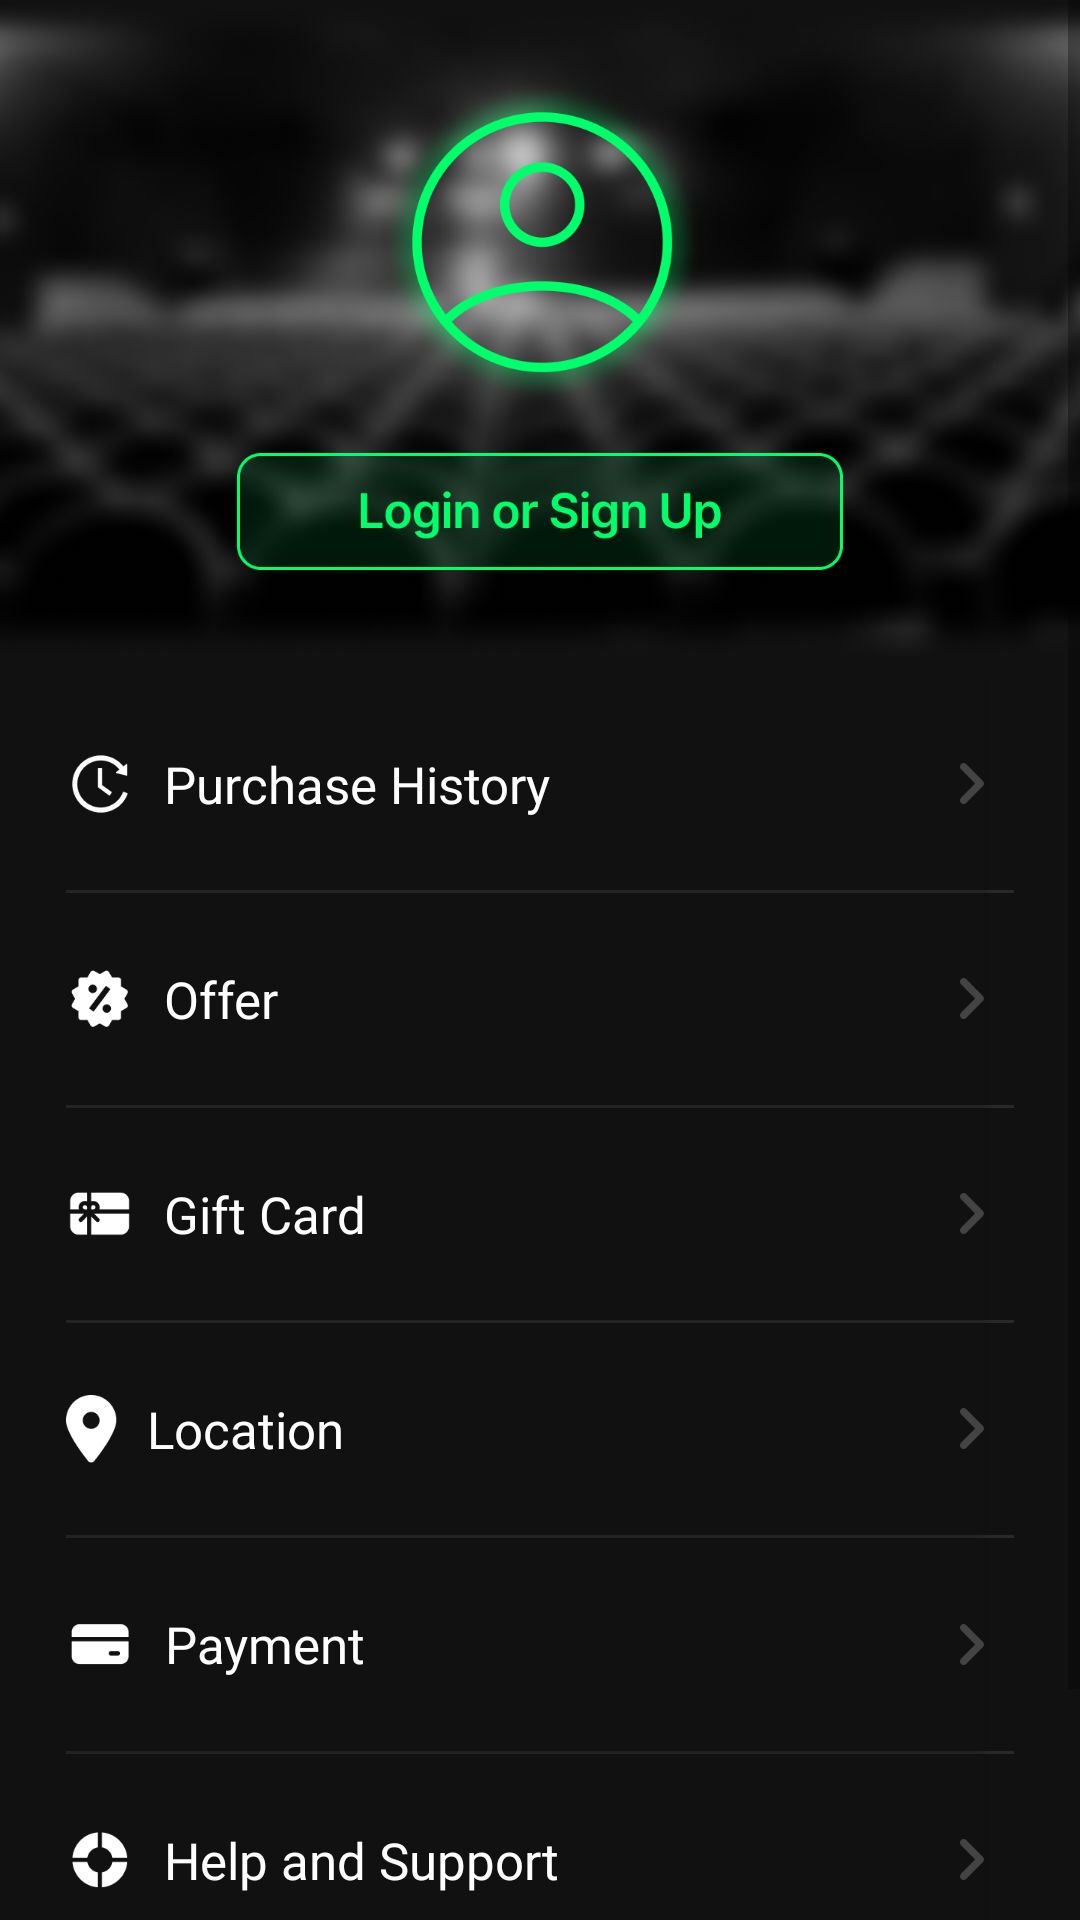

Named icons in this screenshot (1080w x 1920h) and their centers, point (x, y):
profile: point (540, 245)
